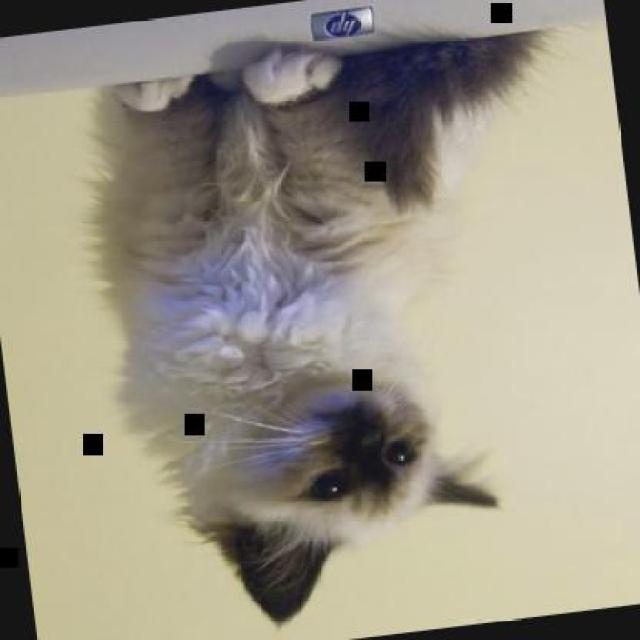cat: (68, 20, 595, 638)
